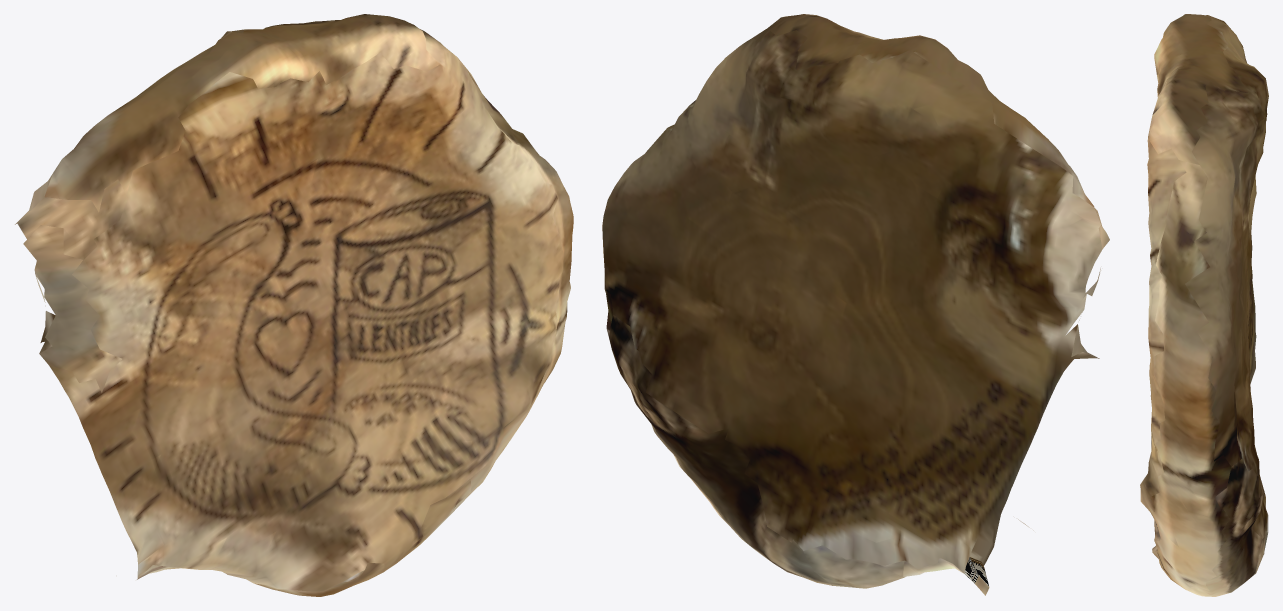
Rendered from cyan.gltf.
The picture shows the model from 3 angles, left to right: view 1: azimuth 30°, elevation 25°; view 2: azimuth 150°, elevation 25°; view 3: azimuth 270°, elevation 25°; orthographic projection. The views are drawn at different scales.
Parts seen in each view (by area): view 1: Mesh_0; view 2: Mesh_0; view 3: Mesh_0.
Part boxes in pixels (x1=…): Mesh_0: x1=15, y1=14, x2=573, y2=596; Mesh_0: x1=602, y1=14, x2=1109, y2=595; Mesh_0: x1=1140, y1=14, x2=1268, y2=596.
Bounding box in the file's own units: 0.6905 × 0.7026 × 0.1566.
Materials: 1 (1 with a texture image).
